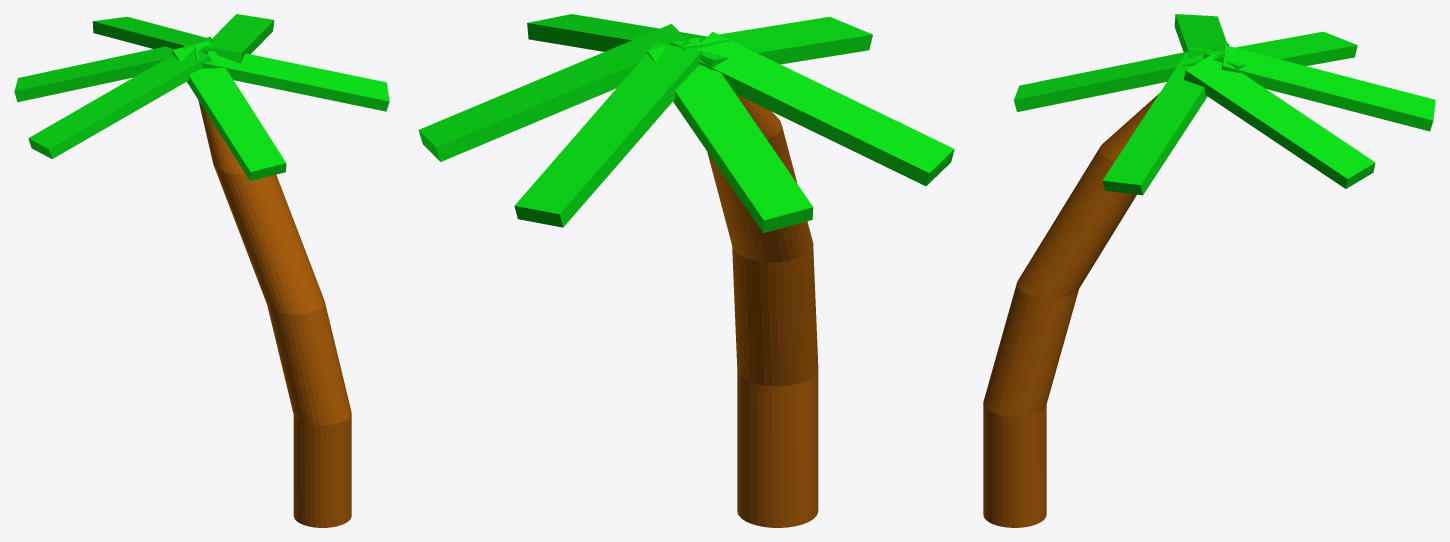
File: deserttree.glb
3 views of the same model, side by side, from view 1: azimuth 30°, elevation 25°; view 2: azimuth 150°, elevation 25°; view 3: azimuth 270°, elevation 25° (orthographic). The views are drawn at different scales.
Parts seen in each view (by area): view 1: Desert_Tree; view 2: Desert_Tree; view 3: Desert_Tree.
Boxes of the visible parts, x1=… form: Desert_Tree: x1=14, y1=14, x2=389, y2=527; Desert_Tree: x1=418, y1=14, x2=954, y2=527; Desert_Tree: x1=983, y1=14, x2=1435, y2=527.
Bounding box in the file's own units: 3.73 × 4.52 × 4.14.
